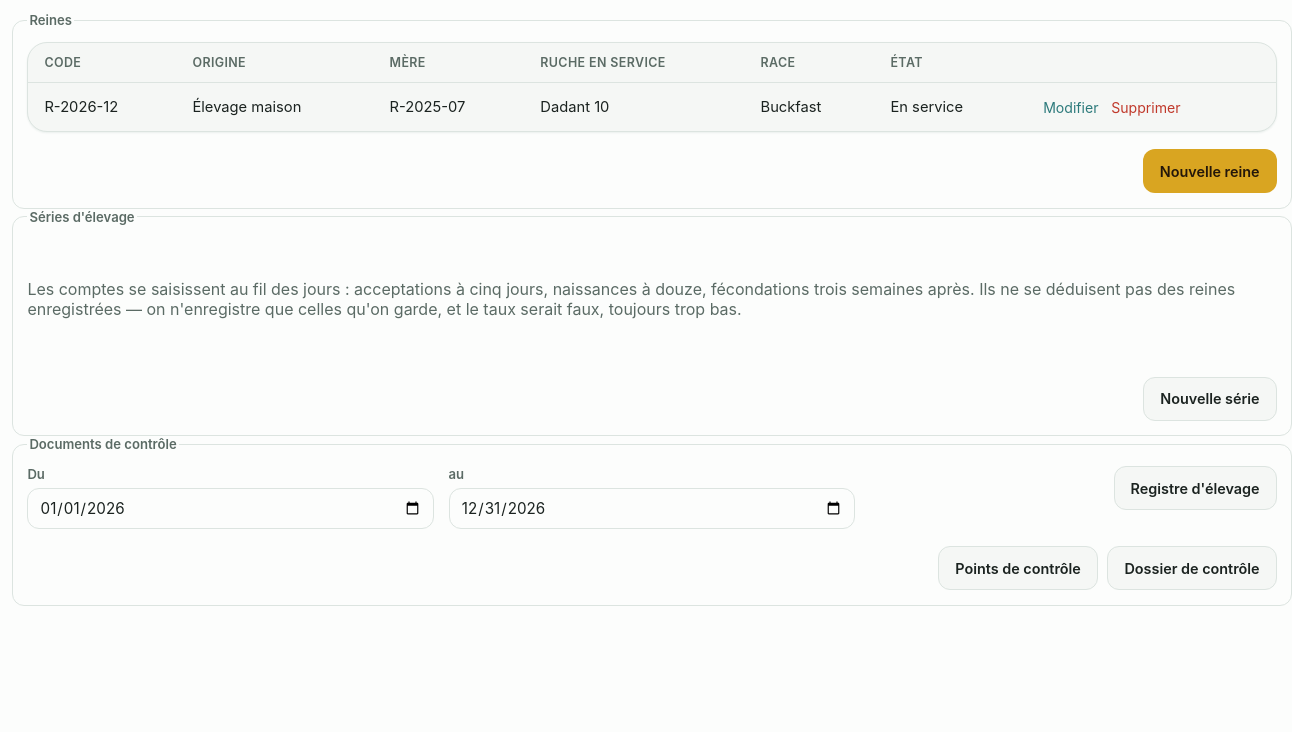
élevage › double l’arbre de lignée d’une liste, pour les lecteurs d’écran
The image size is (1292, 732).
Click the button "Modifier" at (1071, 107), box top-left (1037, 95), bottom-right (1105, 119)
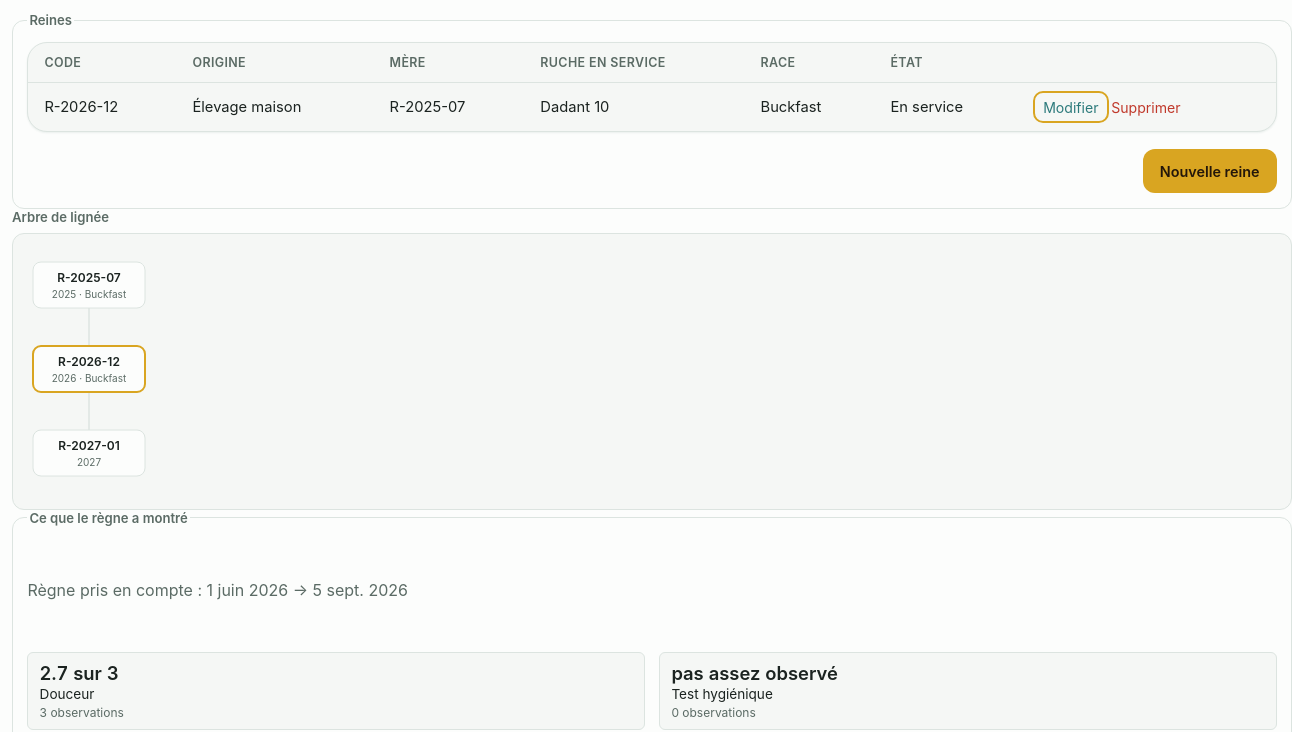
Check: the picture named "Arbre de lignée" is shown, box top-left (23, 243), bottom-right (155, 495)
